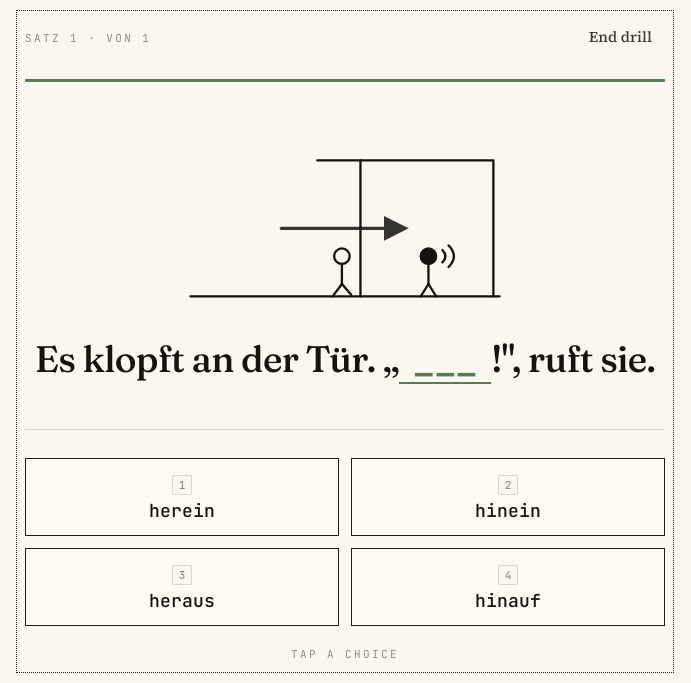
CompoundRunner — reveal content (always shown, win or lose) › shows the filled sentence, translation, and r-form note after a correct pick
Click the button with class "choice" showing "1 herein" at (182, 497), box [25,458,339,536]
(page scrolled)
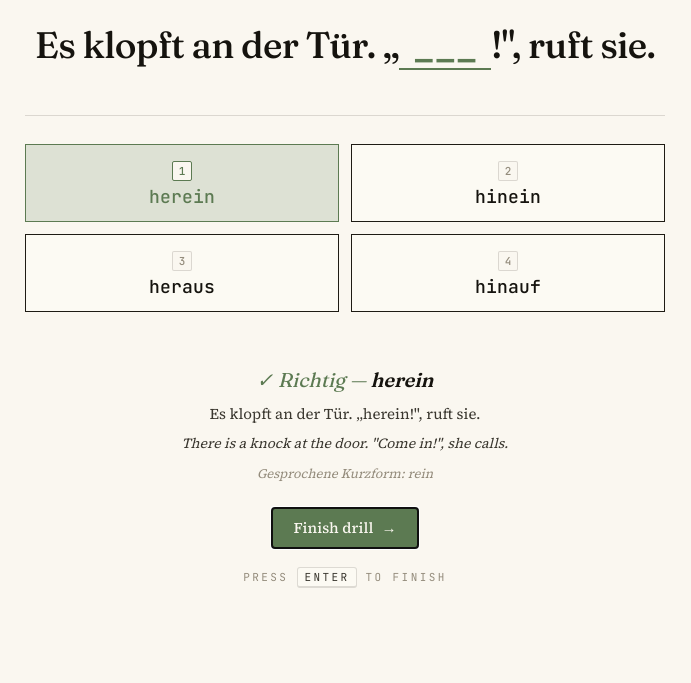
Expected: the element with class "drill-feedback" is shown, [182,367,508,549]
Expected: the element with class "drill-feedback" shows "There is a knock at the door. \"Come in!\", she calls.", [182,433,508,453]
